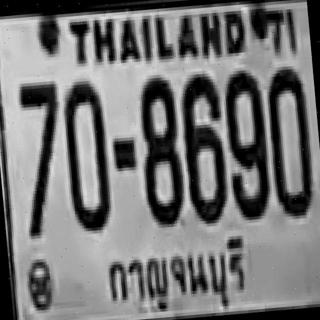N00: (59, 77, 110, 229), (263, 64, 314, 216)
N06: (177, 70, 228, 222)
N07: (14, 79, 67, 235)
N08: (134, 74, 184, 225)
N09: (221, 66, 270, 218)
P17: (98, 226, 254, 320)
